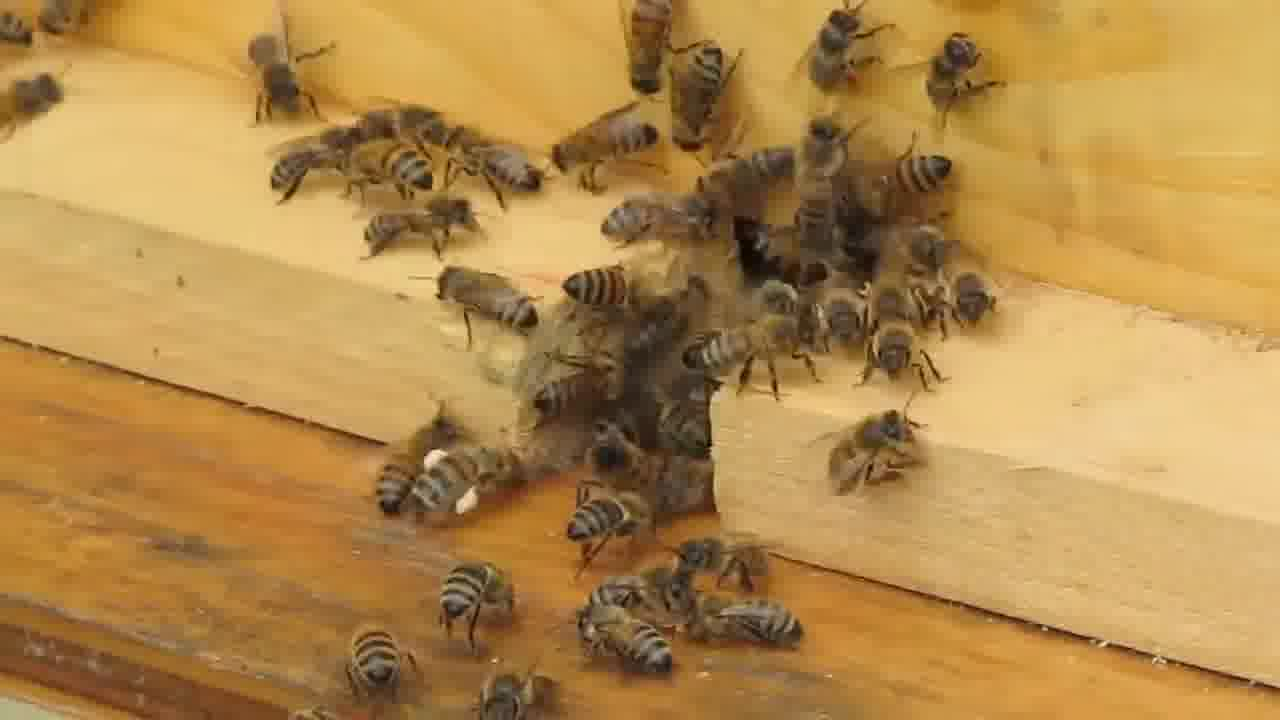pollen: (406, 446, 525, 526)
